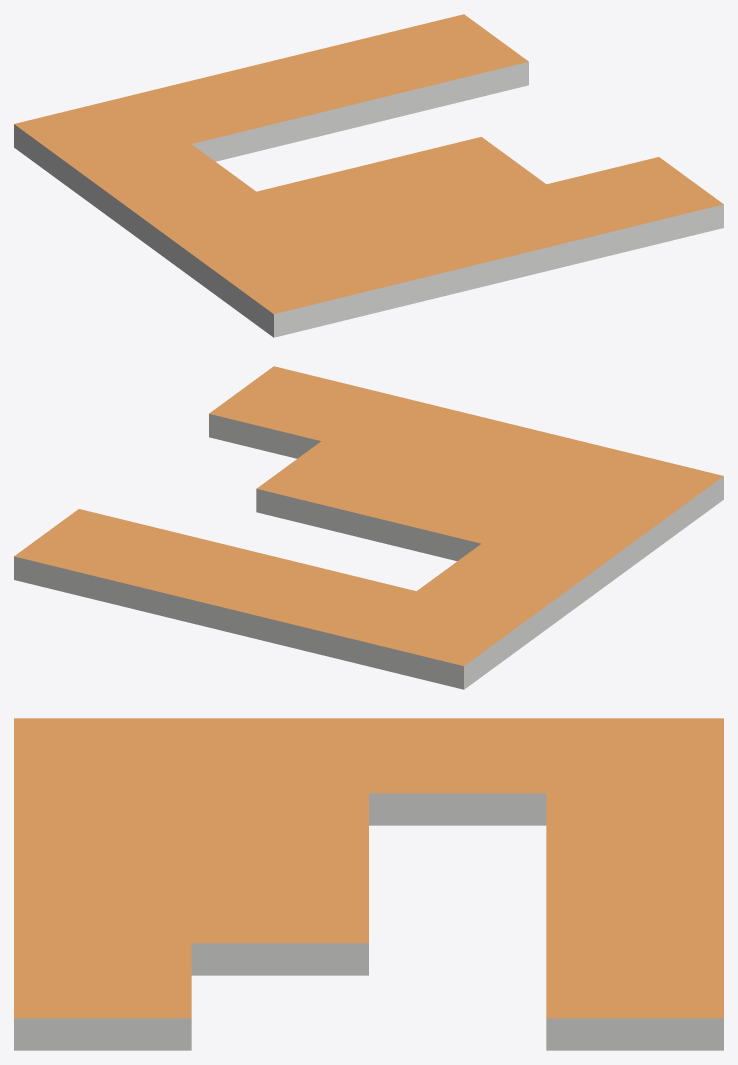
The model's file is laje_abertura_l_esq.glb.
3 renders of one model, top to bottom at view 1: azimuth 30°, elevation 25°; view 2: azimuth 150°, elevation 25°; view 3: azimuth 270°, elevation 25°, orthographic. The views are drawn at different scales.
Parts seen in each view (by area): view 1: laje_abertura_l_esq; view 2: laje_abertura_l_esq; view 3: laje_abertura_l_esq.
Boxes of the visible parts, <box> form: laje_abertura_l_esq: <box>14,14,723,337</box>; laje_abertura_l_esq: <box>14,366,723,689</box>; laje_abertura_l_esq: <box>14,718,723,1050</box>.
Size of the model in its own units: 4 by 0.2 by 4.
